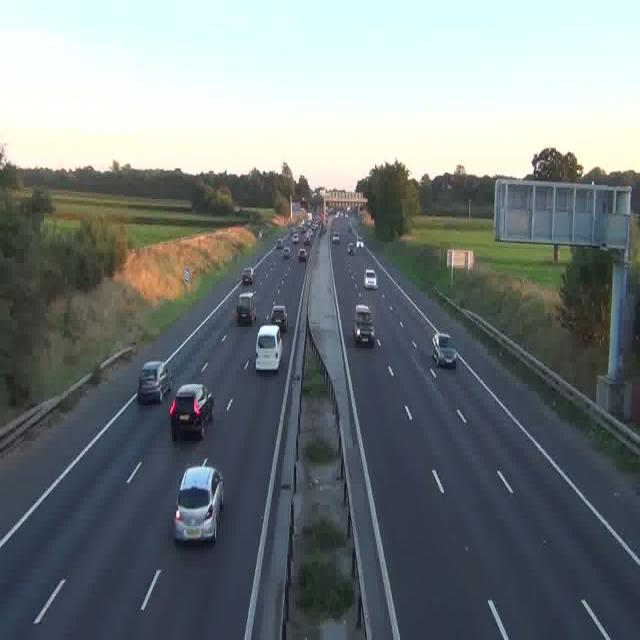car: (174, 466, 224, 541), (170, 382, 214, 441), (138, 361, 170, 402), (255, 324, 281, 370), (431, 332, 457, 368), (353, 304, 375, 346), (235, 291, 255, 326), (271, 305, 287, 332), (363, 269, 378, 290), (241, 268, 253, 284), (298, 248, 306, 261), (282, 246, 290, 259), (348, 242, 356, 255), (276, 238, 284, 251), (332, 233, 340, 244), (306, 235, 312, 246)
